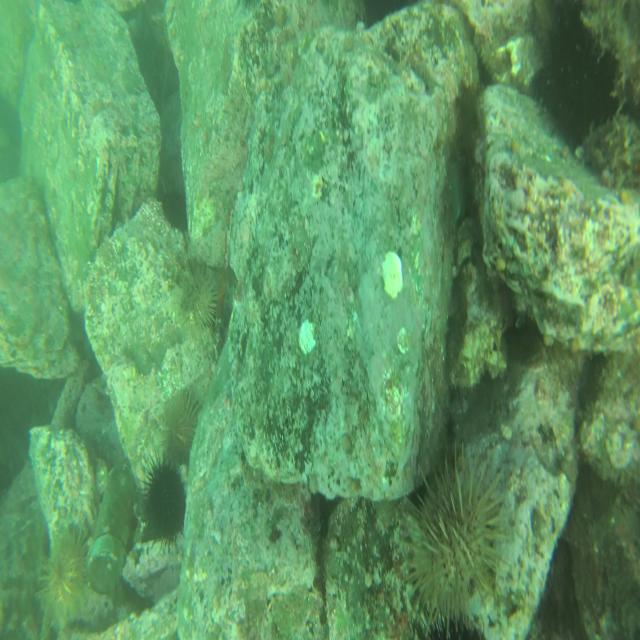echinus: (400, 437, 505, 640), (136, 454, 190, 550), (39, 523, 91, 619), (177, 267, 219, 334), (160, 389, 200, 458)
scallop: (378, 250, 406, 300)
